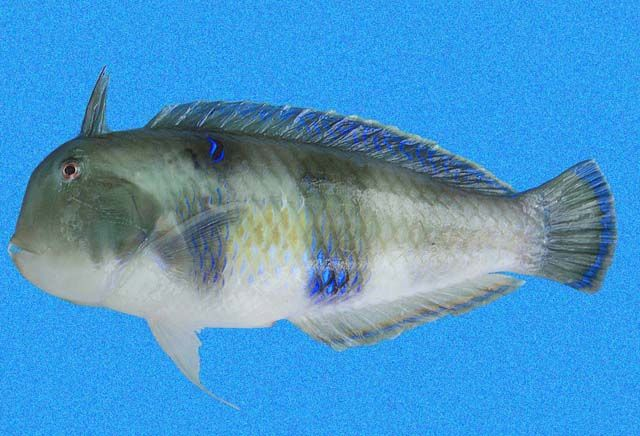fish: (9, 65, 618, 409)
